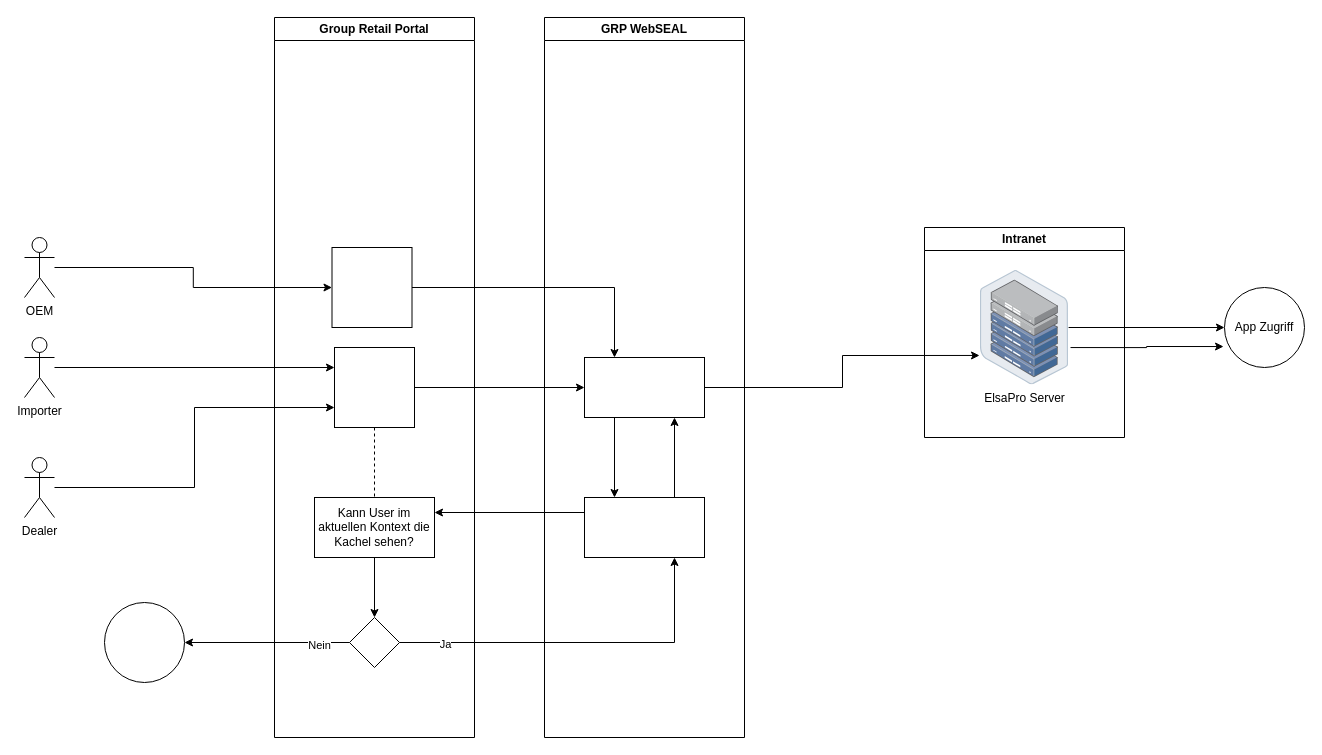
The diagram is 1322 pixels wide and 755 high, and some of its shapes have lost their labels. Here are the shapes that lost their labels. From the top down, the centre of each, then its label:
point (371, 287): ElsaPro Produktiv OEM (GSA)
point (374, 387): ElsaPro Produktiv (GSA)
point (644, 387): /elsapro
point (644, 527): App Security Prüfung
point (144, 642): Access Denied
